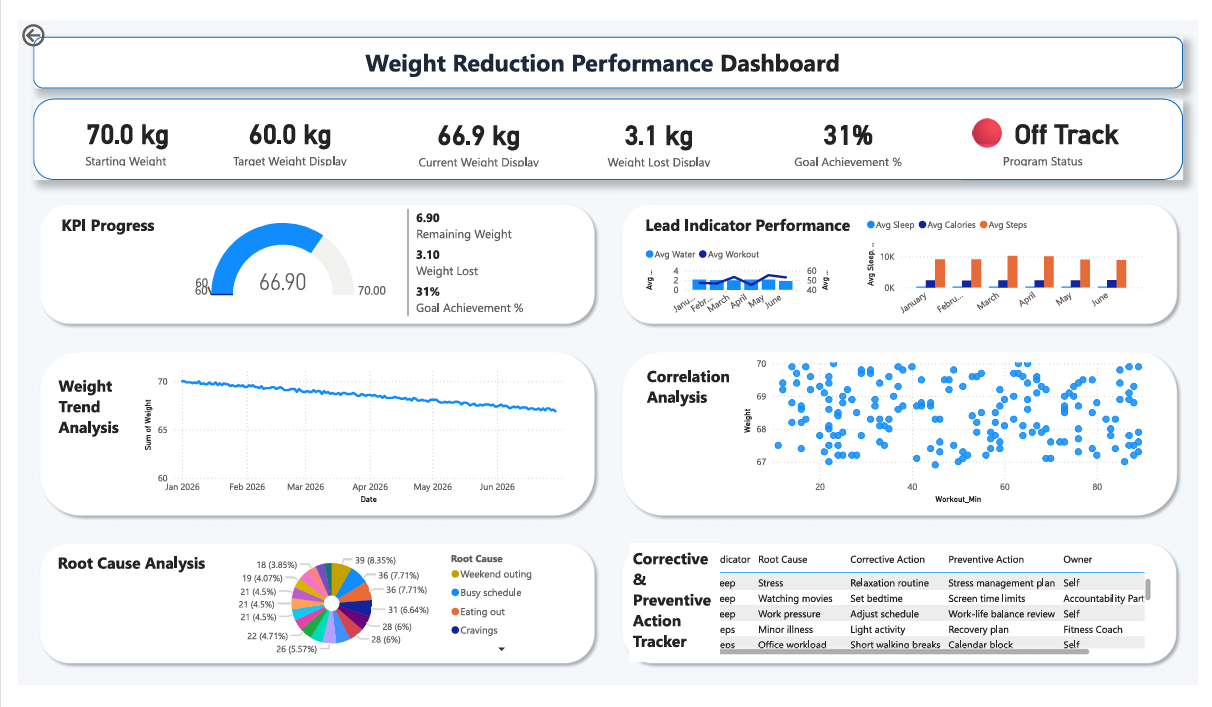

The page's visual inventory and layout, read from the dashboard file:
{"tool":"powerbi","page":{"name":"Executive Dashboard","canvas":[1600,900],"ordinal":0},"visuals":[{"type":"shape","box":[20.2,22,1559.3,69.6],"z":0},{"type":"textbox","box":[36.6,29.3,1519,53.1],"z":1},{"type":"shape","box":[20.2,106.3,1559.3,109.9],"z":3},{"type":"card","fields":{"Values":["Measure_Table.Current Weight Display"]},"box":[513,122.8,221.7,80.6],"z":5},{"type":"card","fields":{"Values":["DAILY_TRACKER.Target Weight Display"]},"box":[258.4,120.9,219.9,80.6],"z":6},{"type":"card","fields":{"Values":["DAILY_TRACKER.Weight Lost Display"]},"box":[758.6,122.8,219.9,80.6],"z":7},{"type":"card","fields":{"Values":["Measure_Table.Goal Achievement %"]},"box":[1015.1,122.8,219.9,78.8],"z":8},{"type":"card","fields":{"Values":["DAILY_TRACKER.Program Status"]},"box":[1278.9,120.9,219.9,80.6],"z":9},{"type":"shape","box":[20,240,770,180],"z":10},{"type":"shape","box":[810,240,770,180],"z":12},{"type":"shape","box":[20.2,440,770,240],"z":13},{"type":"card","fields":{"Values":["Measure_Table.Starting Weight Display"]},"box":[36.6,120.9,221.7,80.6],"z":14},{"type":"shape","box":[810,440,770,240],"z":15},{"type":"shape","box":[20,700,770,180],"z":17},{"type":"shape","box":[809.9,699.9,769.6,179.6],"z":18},{"type":"textbox","box":[53.1,256.5,144.8,45.8],"z":19},{"type":"gauge","fields":{"Y":["Measure_Table.Current Weight"],"MinValue":["Measure_Table.Target Weight"],"MaxValue":["Measure_Table.Starting Weight"],"TargetValue":["Measure_Table.Target Weight"]},"box":[229,256.5,278.5,137.4],"z":20},{"type":"multiRowCard","fields":{"Values":["Measure_Table.Remaining Weight","Measure_Table.Weight Lost","Measure_Table.Goal Achievement %"]},"box":[522.2,251,205.2,157.6],"z":21},{"type":"textbox","box":[844.7,256.5,298.7,45.8],"z":23},{"type":"actionButton","box":[0,0,100,40],"z":25},{"type":"lineClusteredColumnComboChart","fields":{"Category":["DAILY_TRACKER.Date.Variation.Date Hierarchy.Month"],"Y":["DAILY_TRACKER.Avg Sleep","DAILY_TRACKER.Avg Calories","DAILY_TRACKER.Avg Steps"]},"box":[1145.2,256.5,382.9,153.9],"z":27},{"type":"lineClusteredColumnComboChart","fields":{"Category":["DAILY_TRACKER.Date.Variation.Date Hierarchy.Month"],"Y":["DAILY_TRACKER.Avg Water"],"Y2":["DAILY_TRACKER.Avg Workout"]},"box":[844.7,296.8,260.2,111.8],"z":28},{"type":"lineChart","fields":{"Category":["DAILY_TRACKER.Date"],"Y":["Sum(DAILY_TRACKER.Weight)"]},"box":[164.9,461.7,591.8,197.9],"z":29},{"type":"scatterChart","fields":{"X":["DAILY_TRACKER.Workout_Min"],"Y":["DAILY_TRACKER.Weight"]},"box":[978.4,450.7,558.8,208.9],"z":30},{"type":"donutChart","fields":{"Category":["KPI_ACTION_TRACKER.Root Cause"],"Y":["CountNonNull(KPI_ACTION_TRACKER.Root Cause)"]},"box":[258.4,714.6,469.1,150.2],"z":31},{"type":"tableEx","fields":{"Values":["KPI_ACTION_TRACKER.Indicator","KPI_ACTION_TRACKER.Root Cause","KPI_ACTION_TRACKER.Corrective Action","KPI_ACTION_TRACKER.Preventive Action","KPI_ACTION_TRACKER.Owner","KPI_ACTION_TRACKER.Priority"]},"box":[929,714.6,612,150.2],"z":32},{"type":"textbox","box":[49.5,474.6,98.9,115.4],"z":33},{"type":"textbox","box":[846.5,461.7,131.9,71.5],"z":34},{"type":"textbox","box":[47.6,714.6,210.7,51.3],"z":35},{"type":"textbox","box":[828.2,709.1,122.8,161.2],"z":36}]}

Visuals, with their boxes on the page's 1600x900 design canvas (x1, y1, x2, y2). These are canvas units, not pixel positions in the 1212x707 screenshot, which may show the page scaled, cropped or inside an application window:
shape: box=[20, 22, 1580, 92]
textbox: box=[37, 29, 1556, 82]
shape: box=[20, 106, 1580, 216]
card - Measure_Table.Current Weight Display: box=[513, 123, 735, 203]
card - DAILY_TRACKER.Target Weight Display: box=[258, 121, 478, 202]
card - DAILY_TRACKER.Weight Lost Display: box=[759, 123, 978, 203]
card - Measure_Table.Goal Achievement %: box=[1015, 123, 1235, 202]
card - DAILY_TRACKER.Program Status: box=[1279, 121, 1499, 202]
shape: box=[20, 240, 790, 420]
shape: box=[810, 240, 1580, 420]
shape: box=[20, 440, 790, 680]
card - Measure_Table.Starting Weight Display: box=[37, 121, 258, 202]
shape: box=[810, 440, 1580, 680]
shape: box=[20, 700, 790, 880]
shape: box=[810, 700, 1580, 880]
textbox: box=[53, 256, 198, 302]
gauge - Measure_Table.Current Weight x Measure_Table.Target Weight: box=[229, 256, 508, 394]
multiRowCard - Measure_Table.Remaining Weight x Measure_Table.Weight Lost: box=[522, 251, 727, 409]
textbox: box=[845, 256, 1143, 302]
actionButton: box=[0, 0, 100, 40]
lineClusteredColumnComboChart - DAILY_TRACKER.Date.Variation.Date Hierarchy.Month x DAILY_TRACKER.Avg Sleep: box=[1145, 256, 1528, 410]
lineClusteredColumnComboChart - DAILY_TRACKER.Date.Variation.Date Hierarchy.Month x DAILY_TRACKER.Avg Water: box=[845, 297, 1105, 409]
lineChart - DAILY_TRACKER.Date x Sum(DAILY_TRACKER.Weight): box=[165, 462, 757, 660]
scatterChart - DAILY_TRACKER.Workout_Min x DAILY_TRACKER.Weight: box=[978, 451, 1537, 660]
donutChart - KPI_ACTION_TRACKER.Root Cause x CountNonNull(KPI_ACTION_TRACKER.Root Cause): box=[258, 715, 728, 865]
tableEx - KPI_ACTION_TRACKER.Indicator x KPI_ACTION_TRACKER.Root Cause: box=[929, 715, 1541, 865]
textbox: box=[50, 475, 148, 590]
textbox: box=[846, 462, 978, 533]
textbox: box=[48, 715, 258, 766]
textbox: box=[828, 709, 951, 870]
